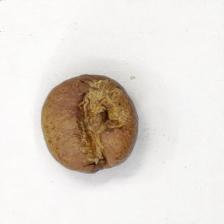NG: (72, 76, 131, 175)
